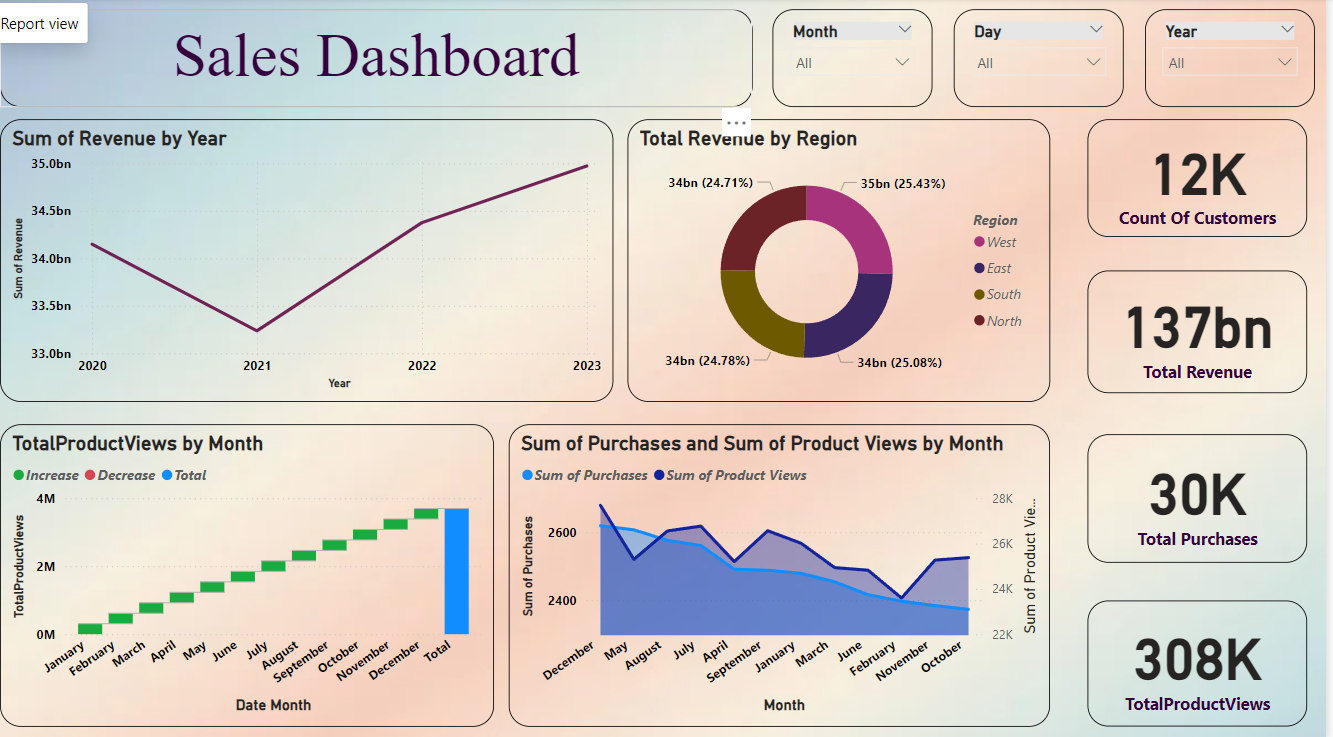

What the dashboard file says about the page in this screenshot:
{"tool":"powerbi","page":{"name":"Page 1","canvas":[1280,720],"ordinal":0},"visuals":[{"type":"donutChart","fields":{"Y":["Data.Total Revenue"],"Category":["Data.Region"]},"box":[605.6,117,407.8,272.7],"z":0},{"type":"waterfallChart","fields":{"Category":["DateTable.Date.Variation.Date Hierarchy.Month","DateTable.Date.Variation.Date Hierarchy.Day"],"Y":["Data.TotalProductViews"]},"box":[0,411.4,476.5,292],"z":1000},{"type":"textbox","box":[0,10.9,726.3,94.1],"z":2000},{"type":"lineChart","fields":{"Category":["Data.Year"],"Y":["Sum(Data.Revenue)"]},"box":[0,117,592.4,272.7],"z":3000},{"type":"slicer","fields":{"Values":["Data.Month"]},"box":[745.6,10.9,154.4,94.1],"z":4000},{"type":"slicer","fields":{"Values":["Data.Day"]},"box":[920.5,10.9,164.1,94.1],"z":5000},{"type":"slicer","fields":{"Values":["Data.Year"]},"box":[1105.1,10.9,164.1,94.1],"z":6000},{"type":"areaChart","fields":{"Category":["Data.Month"],"Y":["Sum(Data.Purchases)"],"Y2":["Sum(Data.Product Views)"]},"box":[491,411.4,522.4,292],"z":7000},{"type":"card","fields":{"Values":["Data.Total Revenue"]},"box":[1049.6,263,212.3,118.2],"z":8000},{"type":"card","fields":{"Values":["Data.TotalProductViews"]},"box":[1049.6,581.5,212.3,121.9],"z":9000},{"type":"card","fields":{"Values":["Data.Total Purchases"]},"box":[1049.6,421,212.3,124.3],"z":10000},{"type":"card","fields":{"Values":["Data.Count Of Customers"]},"box":[1049.6,117,212.3,113.4],"z":11000}]}

Visuals, with their boxes on the page's 1280x720 design canvas (x1, y1, x2, y2). These are canvas units, not pixel positions in the 1333x737 screenshot, which may show the page scaled, cropped or inside an application window:
donutChart - Data.Total Revenue x Data.Region: locate(606, 117, 1013, 390)
waterfallChart - DateTable.Date.Variation.Date Hierarchy.Month x DateTable.Date.Variation.Date Hierarchy.Day: locate(0, 411, 476, 703)
textbox: locate(0, 11, 726, 105)
lineChart - Data.Year x Sum(Data.Revenue): locate(0, 117, 592, 390)
slicer - Data.Month: locate(746, 11, 900, 105)
slicer - Data.Day: locate(920, 11, 1085, 105)
slicer - Data.Year: locate(1105, 11, 1269, 105)
areaChart - Data.Month x Sum(Data.Purchases): locate(491, 411, 1013, 703)
card - Data.Total Revenue: locate(1050, 263, 1262, 381)
card - Data.TotalProductViews: locate(1050, 582, 1262, 703)
card - Data.Total Purchases: locate(1050, 421, 1262, 545)
card - Data.Count Of Customers: locate(1050, 117, 1262, 230)
